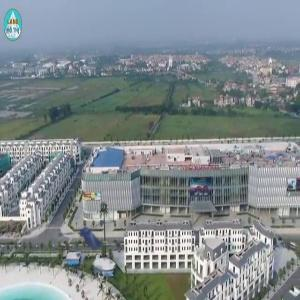drone: (58, 195, 138, 275)
